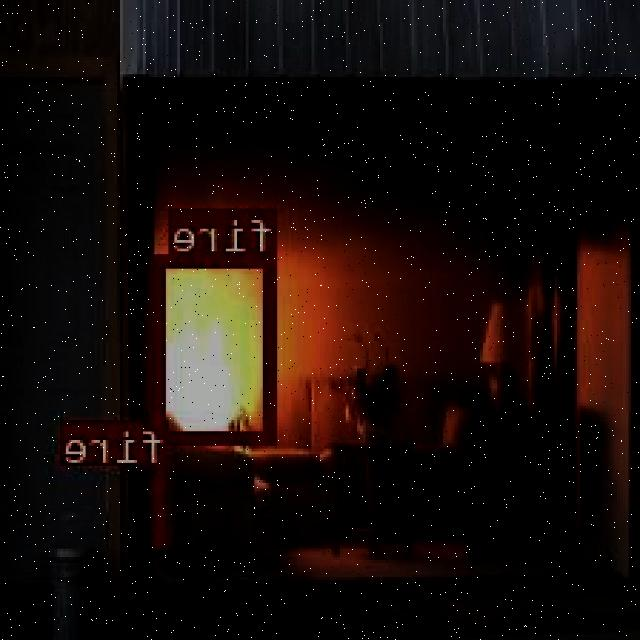fire: (155, 252, 279, 442), (155, 464, 170, 545)
